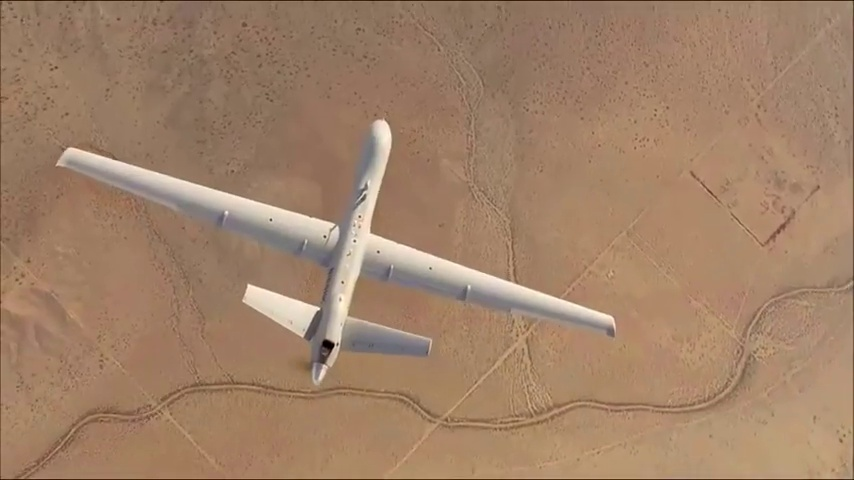military drone: (54, 118, 617, 385)
